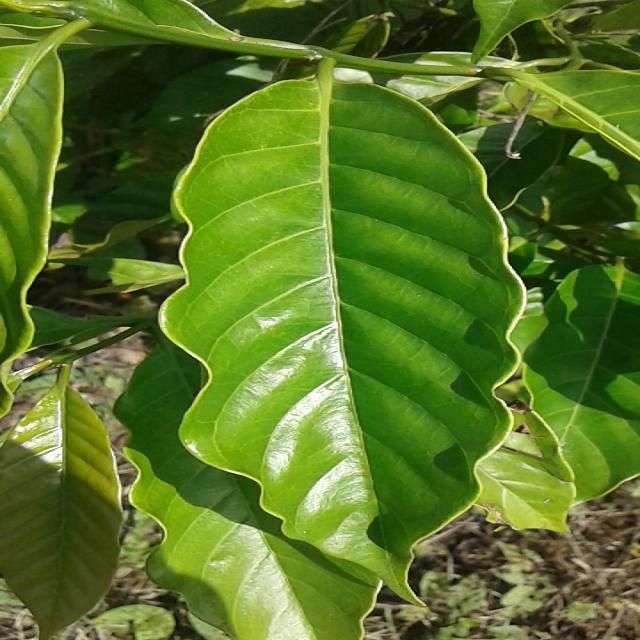Sanas: (158, 79, 524, 603)
